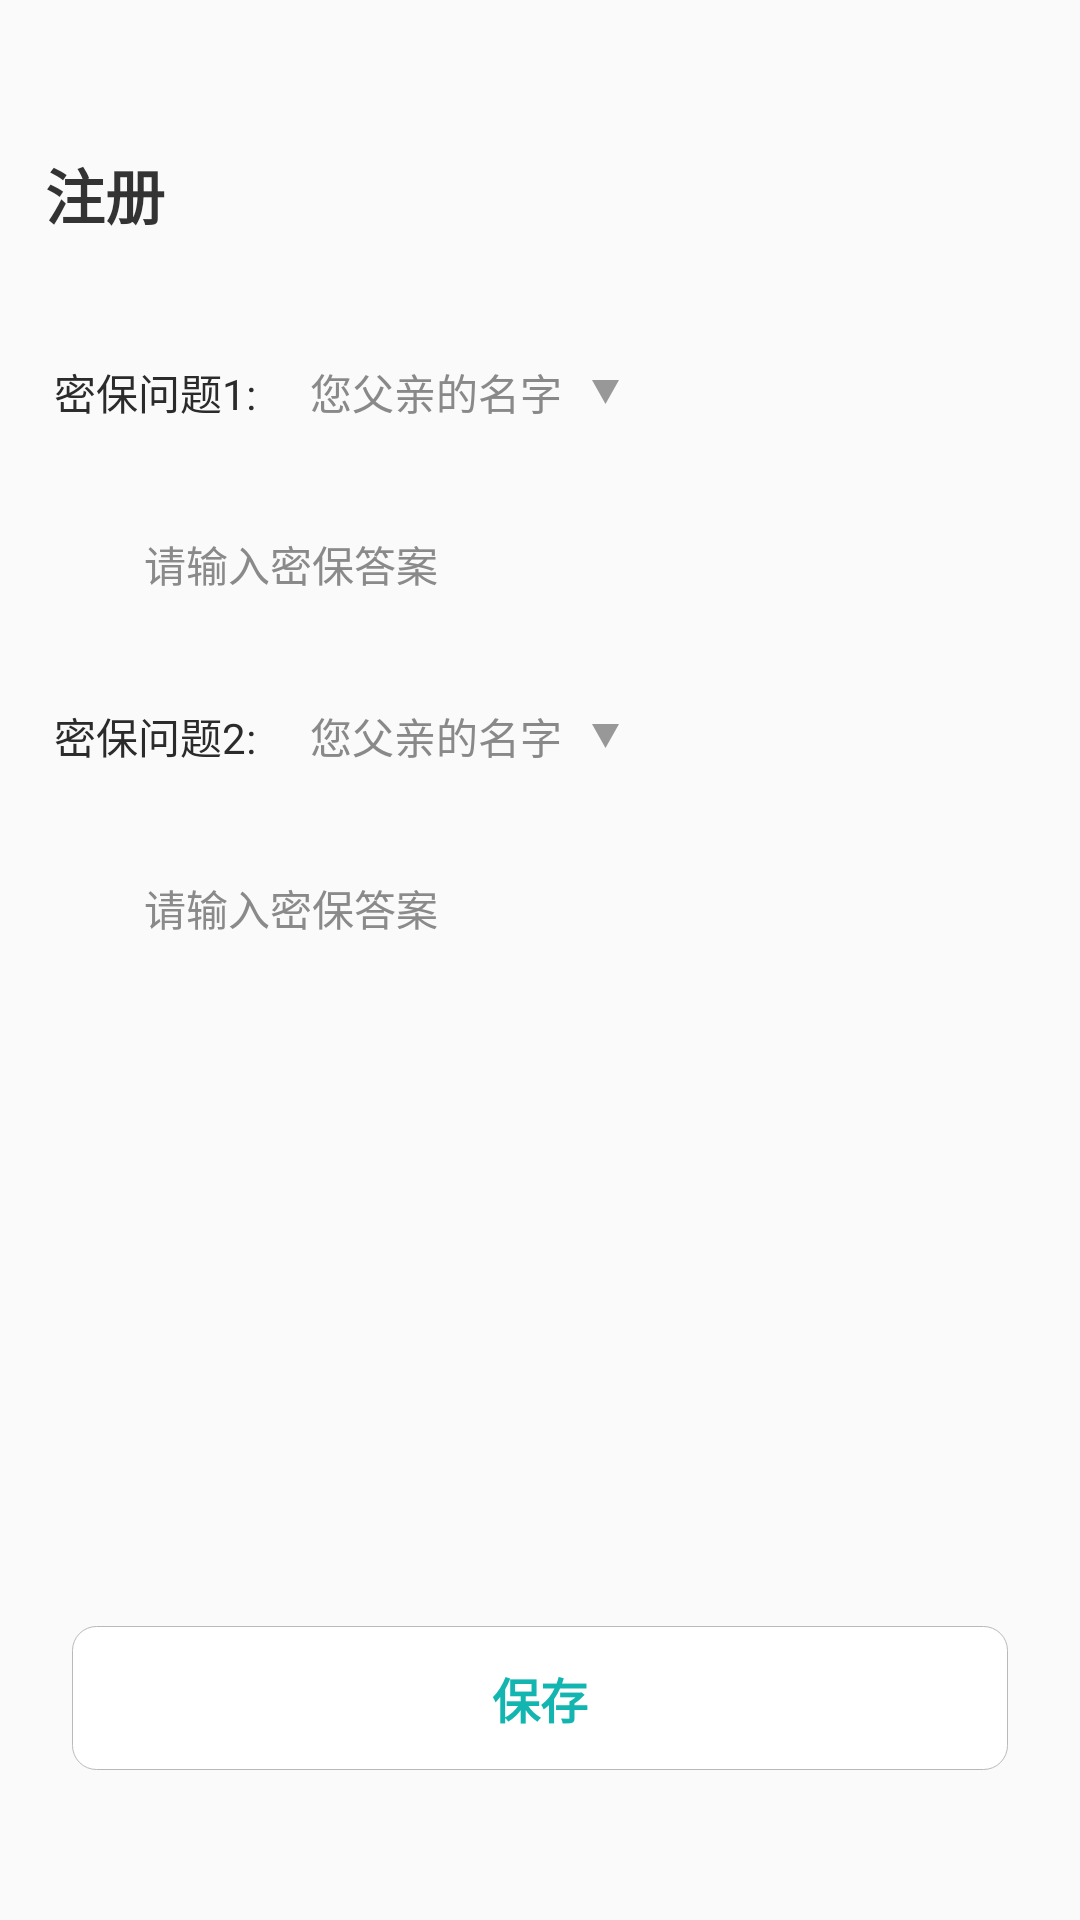

Locate icon controls on the screen. Image size 1080 x 1920, boxes as (x1, y1, x2, y2).
down: (592, 380, 619, 404), (592, 724, 619, 748)
